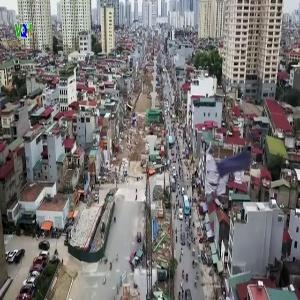drone: (193, 110, 280, 197)
